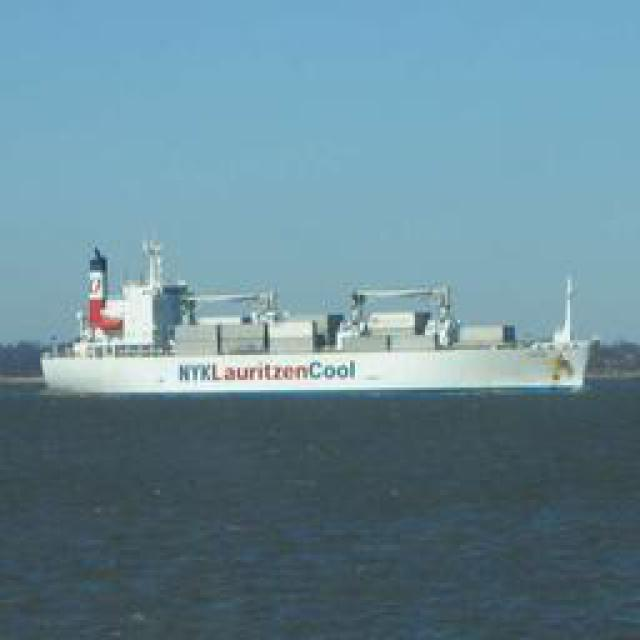Ship: (35, 260, 595, 400)
